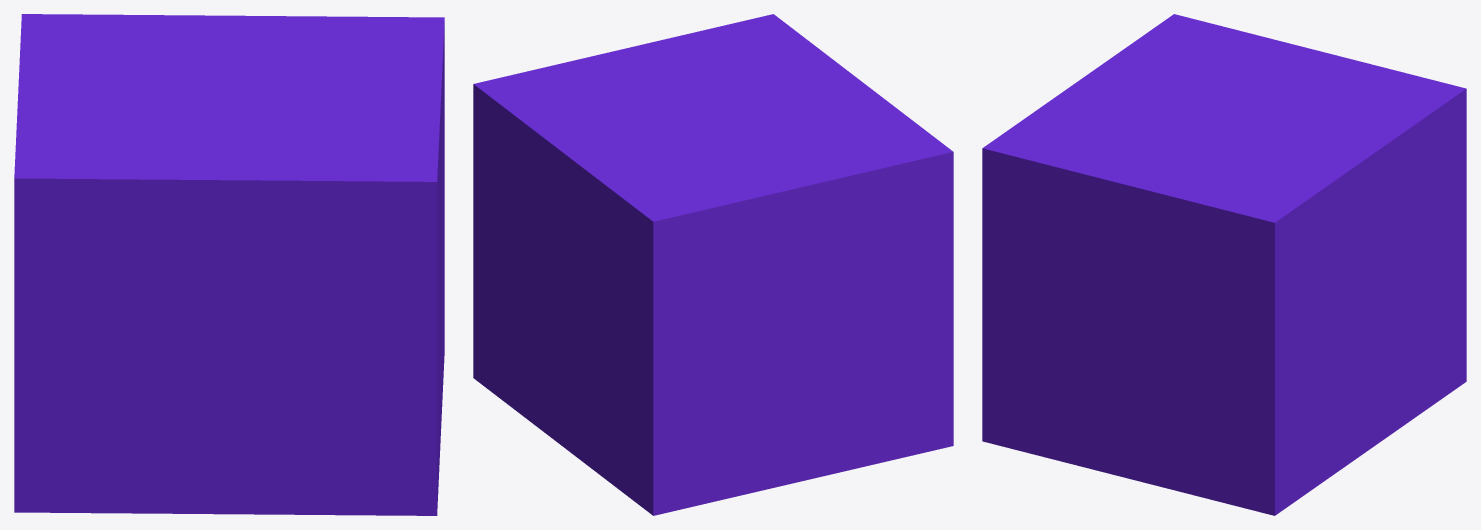
3 renders of one model, left to right at view 1: azimuth 30°, elevation 25°; view 2: azimuth 150°, elevation 25°; view 3: azimuth 270°, elevation 25°, orthographic. The views are drawn at different scales.
Visible parts, largest first — view 1: Cube; view 2: Cube; view 3: Cube.
Part boxes in pixels (x1=…): Cube: x1=14, y1=14, x2=444, y2=515; Cube: x1=473, y1=14, x2=953, y2=515; Cube: x1=982, y1=14, x2=1466, y2=515.
Bounding box in the file's own units: 3.06 × 2 × 2.99.
